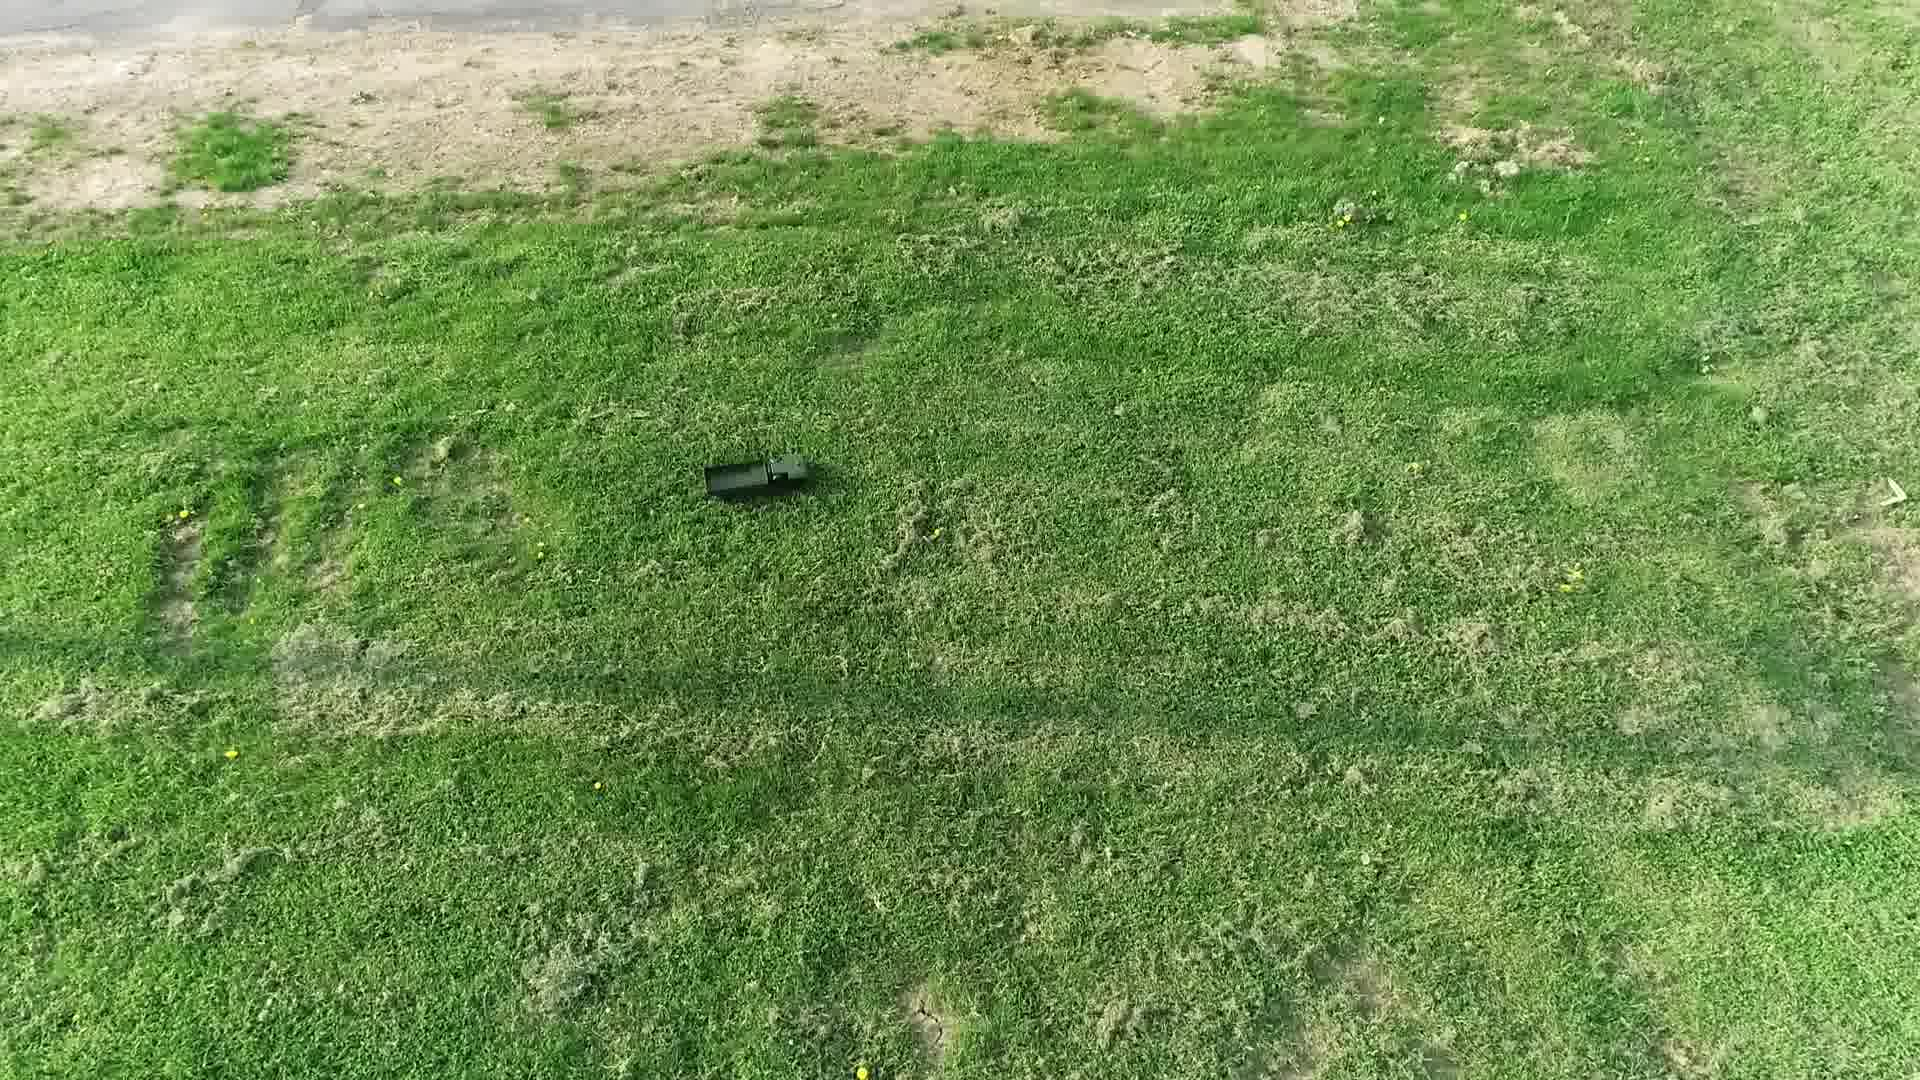transporter9: (699, 446, 822, 502)
